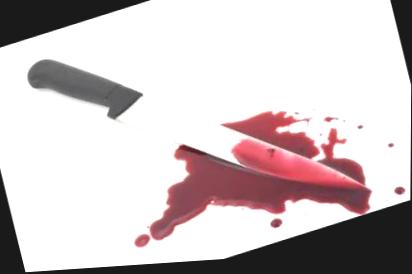Fire: (151, 115, 372, 240), (136, 238, 150, 247), (385, 146, 396, 157), (271, 222, 284, 230), (325, 121, 340, 127), (396, 192, 406, 200), (335, 143, 348, 148), (301, 122, 314, 125), (358, 129, 365, 134)
